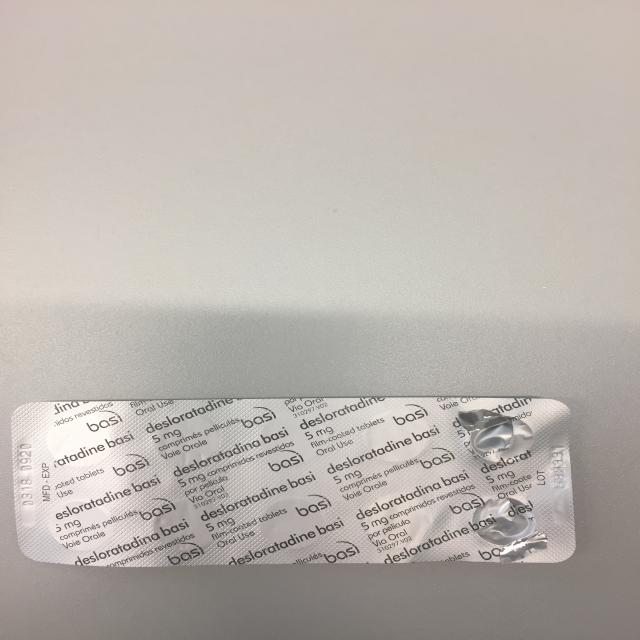Empty: (451, 406, 544, 466), (466, 493, 550, 557)
Pill: (34, 495, 123, 555), (138, 410, 224, 470), (351, 492, 432, 552), (246, 497, 334, 552), (38, 412, 118, 472), (142, 500, 224, 556), (256, 410, 335, 468), (361, 410, 436, 468)
